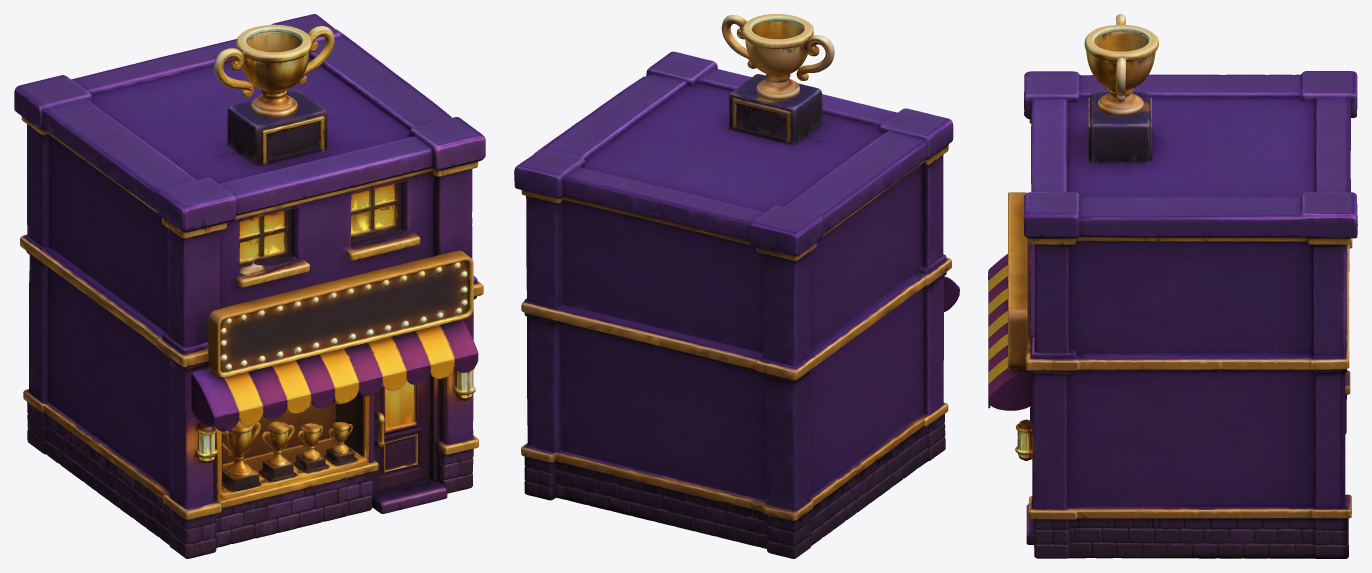
The model's file is pawnshop.glb.
3 renders of one model, left to right at view 1: azimuth 30°, elevation 25°; view 2: azimuth 150°, elevation 25°; view 3: azimuth 270°, elevation 25°, orthographic. The views are drawn at different scales.
Parts seen in each view (by area): view 1: tripo_node_a12b073c-dd73-4ec4-86a1-b36156dc25a2; view 2: tripo_node_a12b073c-dd73-4ec4-86a1-b36156dc25a2; view 3: tripo_node_a12b073c-dd73-4ec4-86a1-b36156dc25a2.
Boxes of the visible parts, x1=… form: tripo_node_a12b073c-dd73-4ec4-86a1-b36156dc25a2: x1=14, y1=14, x2=485, y2=558; tripo_node_a12b073c-dd73-4ec4-86a1-b36156dc25a2: x1=514, y1=14, x2=959, y2=558; tripo_node_a12b073c-dd73-4ec4-86a1-b36156dc25a2: x1=988, y1=14, x2=1357, y2=558.
Size of the model in its own units: 0.685 by 0.9786 by 0.7325.
1 material, 1 textured.
